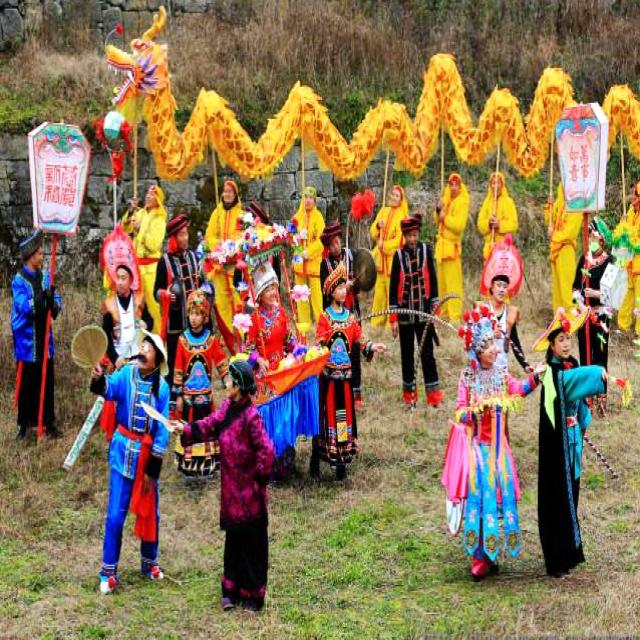Reeves-s Pheasant: (409, 294, 465, 429), (310, 306, 461, 343)
